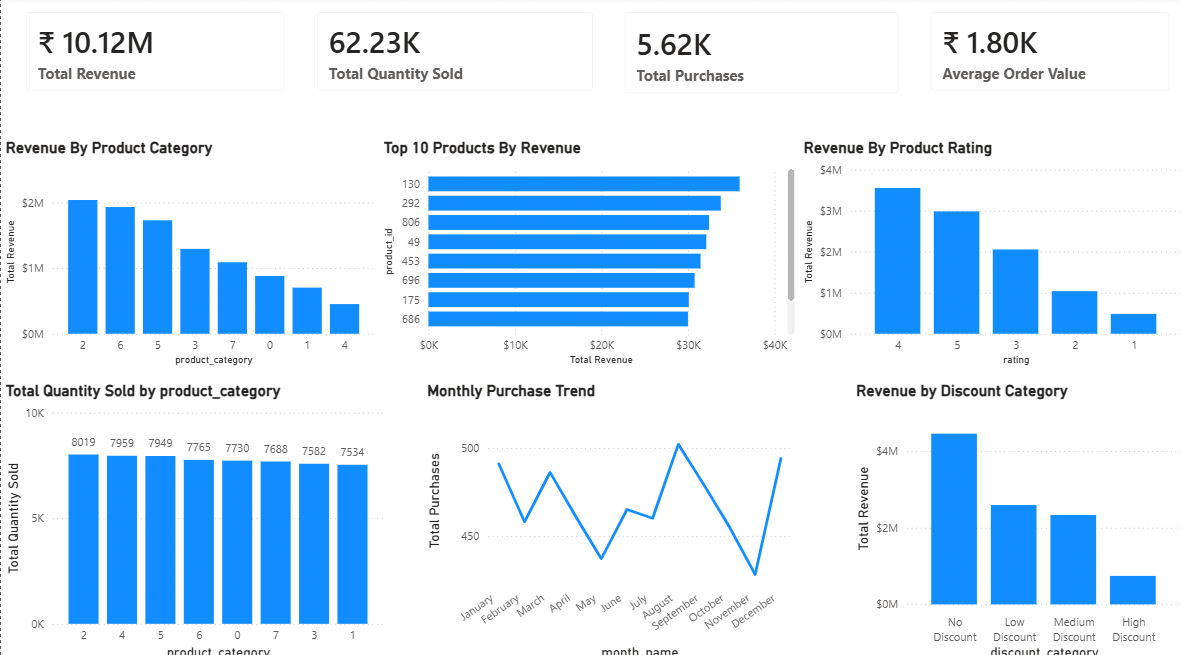

This screenshot's page, from the dashboard's own definition file:
{"tool":"powerbi","page":{"name":"Product & Sales Analytics","canvas":[1280,720],"ordinal":2},"visuals":[{"type":"cardVisual","fields":{"Data":["Ecommerce.Total Revenue"]},"box":[9.4,0,313.7,119.1],"z":0},{"type":"cardVisual","fields":{"Data":["Ecommerce.Total Quantity Sold"]},"box":[323.2,0,332.6,119.1],"z":1000},{"type":"cardVisual","fields":{"Data":["Ecommerce.Total Purchases"]},"box":[655.8,0,330.7,122.8],"z":2000},{"type":"cardVisual","fields":{"Data":["Ecommerce.Average Order Value"]},"box":[986.5,0,292.9,119.1],"z":3000},{"type":"clusteredColumnChart","title":"Revenue By Product Category","fields":{"Category":["Ecommerce.product_category"],"Y":["Ecommerce.Total Revenue"]},"box":[0,153.1,408.2,249.5],"z":4000},{"type":"clusteredColumnChart","fields":{"Category":["Ecommerce.product_category"],"Y":["Ecommerce.Total Quantity Sold"]},"box":[0,415.8,417.6,304.3],"z":5000},{"type":"clusteredBarChart","title":"Top 10 Products By Revenue","fields":{"Category":["Ecommerce.product_id"],"Y":["Ecommerce.Total Revenue"]},"box":[408.2,153.1,453.5,249.5],"z":6000},{"type":"clusteredColumnChart","title":" Revenue by Discount Category","fields":{"Category":["Ecommerce.discount_category"],"Y":["Ecommerce.Total Revenue"]},"box":[918.4,415.8,360.9,304.3],"z":7000},{"type":"clusteredColumnChart","title":"Revenue By Product Rating","fields":{"Category":["Ecommerce.rating"],"Y":["Ecommerce.Total Revenue"]},"box":[861.7,153.1,417.6,249.5],"z":8000},{"type":"lineChart","title":"Monthly Purchase Trend","fields":{"Category":["Ecommerce.month_name"],"Y":["Ecommerce.Total Purchases"]},"box":[455.4,415.8,402.5,304.3],"z":9000}]}

Visuals, with their boxes in screenshot pixels (x1, y1, x2, y2), scaled from the page's 1280x720 canvas onto the 1181x655 screenshot:
cardVisual - Ecommerce.Total Revenue: 9/0/298/108
cardVisual - Ecommerce.Total Quantity Sold: 298/0/605/108
cardVisual - Ecommerce.Total Purchases: 605/0/910/112
cardVisual - Ecommerce.Average Order Value: 910/0/1180/108
"Revenue By Product Category" clusteredColumnChart: 0/139/377/366
clusteredColumnChart - Ecommerce.product_category x Ecommerce.Total Quantity Sold: 0/378/385/654
"Top 10 Products By Revenue" clusteredBarChart: 377/139/795/366
" Revenue by Discount Category" clusteredColumnChart: 847/378/1180/654
"Revenue By Product Rating" clusteredColumnChart: 795/139/1180/366
"Monthly Purchase Trend" lineChart: 420/378/792/654
